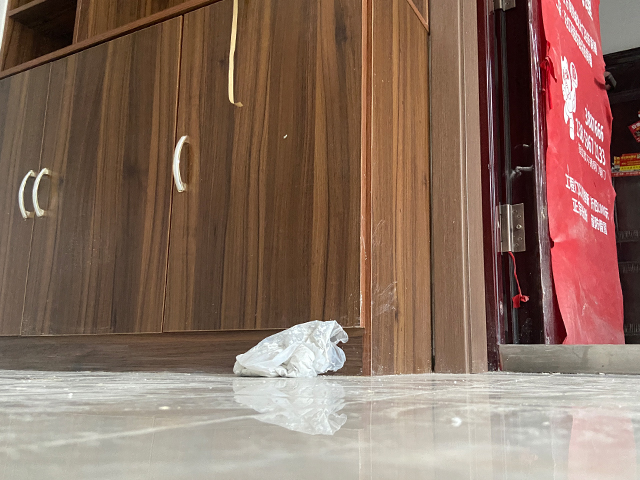cabinet: (1, 1, 434, 378)
